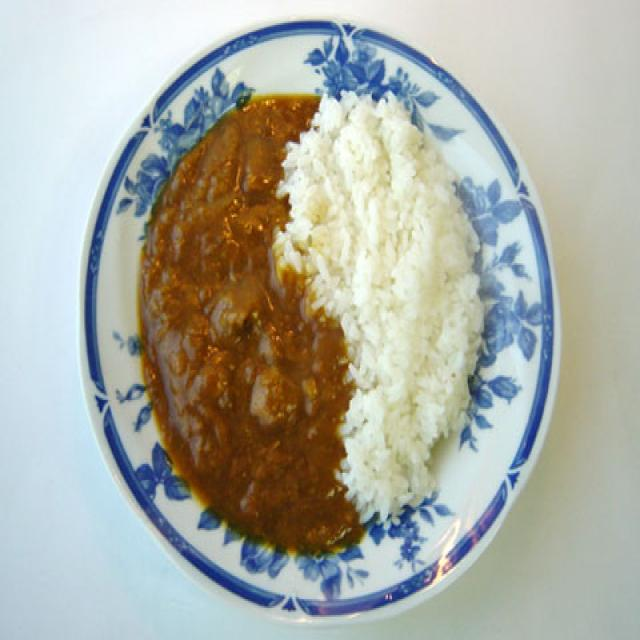牛肉菜式: (72, 12, 560, 620)
